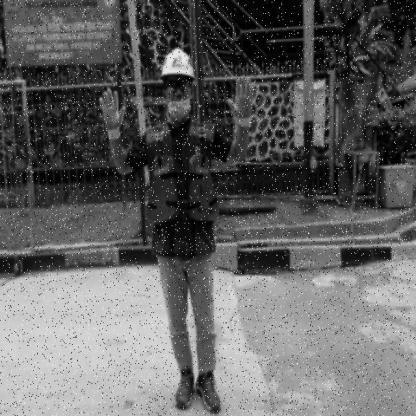boots: (195, 363, 226, 413), (173, 364, 196, 410)
gloves: (91, 86, 127, 132), (229, 75, 260, 126)
goggles: (161, 78, 196, 93)
helmet: (157, 47, 198, 85)
mask: (168, 98, 192, 122)
vest: (142, 150, 223, 232)
